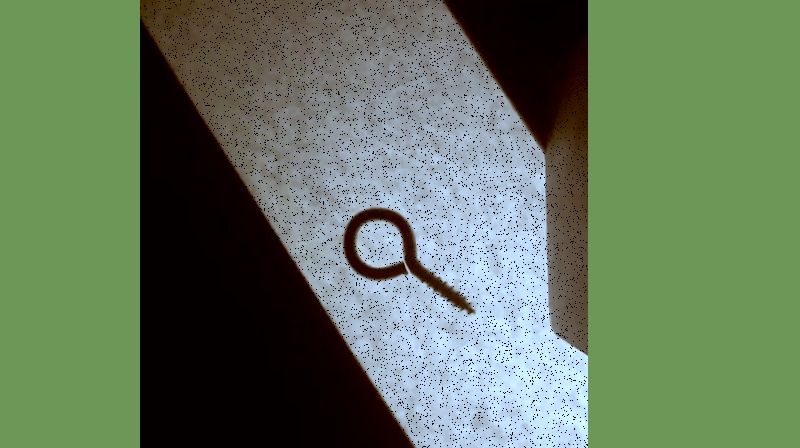O001: (341, 202, 479, 316)
